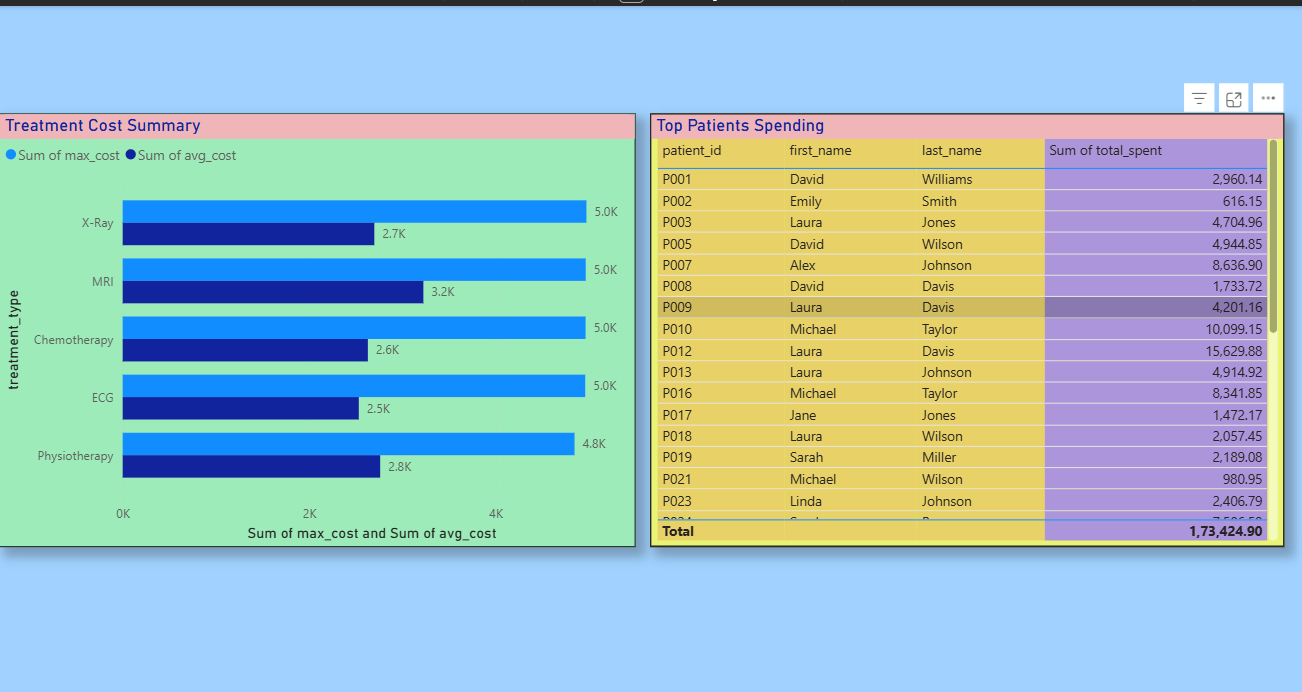

The page's visual inventory and layout, read from the dashboard file:
{"tool":"powerbi","page":{"name":"Page 3","canvas":[1280,720],"ordinal":2},"visuals":[{"type":"clusteredBarChart","title":"Treatment Cost Summary","fields":{"Category":["treatment_cost_summary (2).treatment_type"],"Y":["treatment_cost_summary (2).max_cost","treatment_cost_summary (2).avg_cost"]},"box":[0,105.5,624.5,425.8],"z":0},{"type":"tableEx","title":"Top Patients Spending","fields":{"Values":["top_patients_spending.patient_id","top_patients_spending.first_name","top_patients_spending.last_name","top_patients_spending.total_spent"]},"box":[639.3,105.5,622.1,425.8],"z":1000}]}

Visuals, with their boxes on the page's 1280x720 design canvas (x1, y1, x2, y2). These are canvas units, not pixel positions in the 1302x692 screenshot, which may show the page scaled, cropped or inside an application window:
"Treatment Cost Summary" clusteredBarChart: rect(0, 106, 624, 531)
"Top Patients Spending" tableEx: rect(639, 106, 1261, 531)
